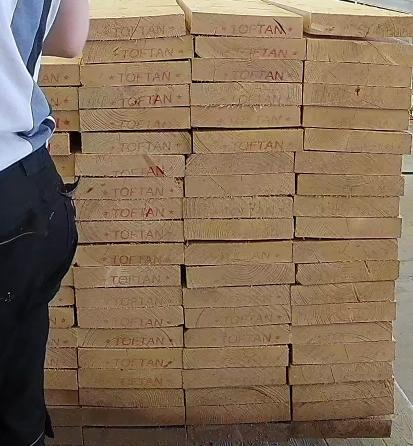Wood-Plank: (82, 35, 194, 64), (78, 14, 184, 42), (82, 60, 191, 86), (309, 11, 413, 38), (305, 128, 412, 154), (193, 129, 304, 154), (190, 13, 304, 37), (187, 263, 295, 288), (296, 151, 402, 176), (191, 83, 303, 106), (305, 61, 408, 86), (79, 108, 190, 131), (292, 379, 394, 404), (307, 40, 413, 64), (185, 174, 295, 197), (304, 84, 409, 108), (184, 346, 289, 370), (75, 177, 183, 200), (185, 243, 293, 266), (73, 266, 181, 289), (195, 38, 307, 60), (77, 244, 184, 267), (297, 262, 399, 286), (185, 305, 291, 328), (192, 60, 302, 82), (184, 219, 294, 241), (294, 241, 399, 264), (185, 325, 290, 348), (290, 362, 394, 385), (293, 303, 396, 326), (188, 154, 295, 176), (187, 424, 294, 446), (293, 342, 395, 365), (78, 221, 184, 243), (296, 217, 402, 239), (79, 87, 190, 108), (186, 404, 291, 426), (75, 155, 184, 176), (304, 108, 408, 130), (75, 200, 183, 221), (292, 284, 395, 306), (184, 368, 287, 390), (77, 308, 183, 329), (292, 323, 393, 345), (295, 197, 400, 218), (191, 108, 301, 128), (294, 400, 394, 422), (186, 386, 290, 407), (81, 134, 190, 154), (293, 419, 392, 441), (184, 288, 290, 308), (76, 288, 182, 308), (298, 176, 403, 196), (78, 350, 183, 370), (78, 328, 183, 348), (185, 200, 293, 219), (0, 85, 78, 110), (0, 62, 79, 86), (78, 372, 182, 390), (79, 390, 183, 408), (83, 428, 187, 446), (81, 410, 185, 428), (0, 153, 75, 177), (0, 304, 75, 328), (0, 347, 77, 370), (0, 131, 70, 156), (0, 110, 79, 132), (0, 407, 82, 428), (0, 327, 78, 348), (1, 426, 82, 446), (2, 369, 78, 390), (0, 285, 75, 306), (0, 390, 78, 406)
